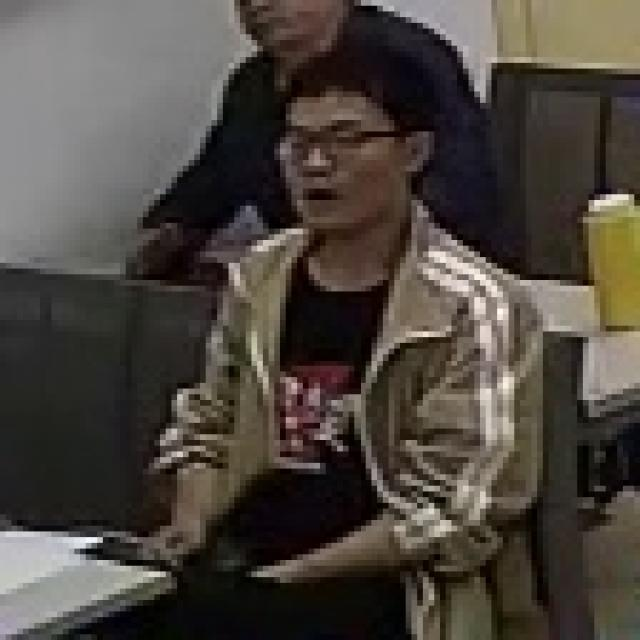listen: (174, 71, 516, 640), (135, 4, 524, 318)
